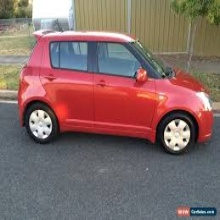no damage: (18, 28, 215, 155)
